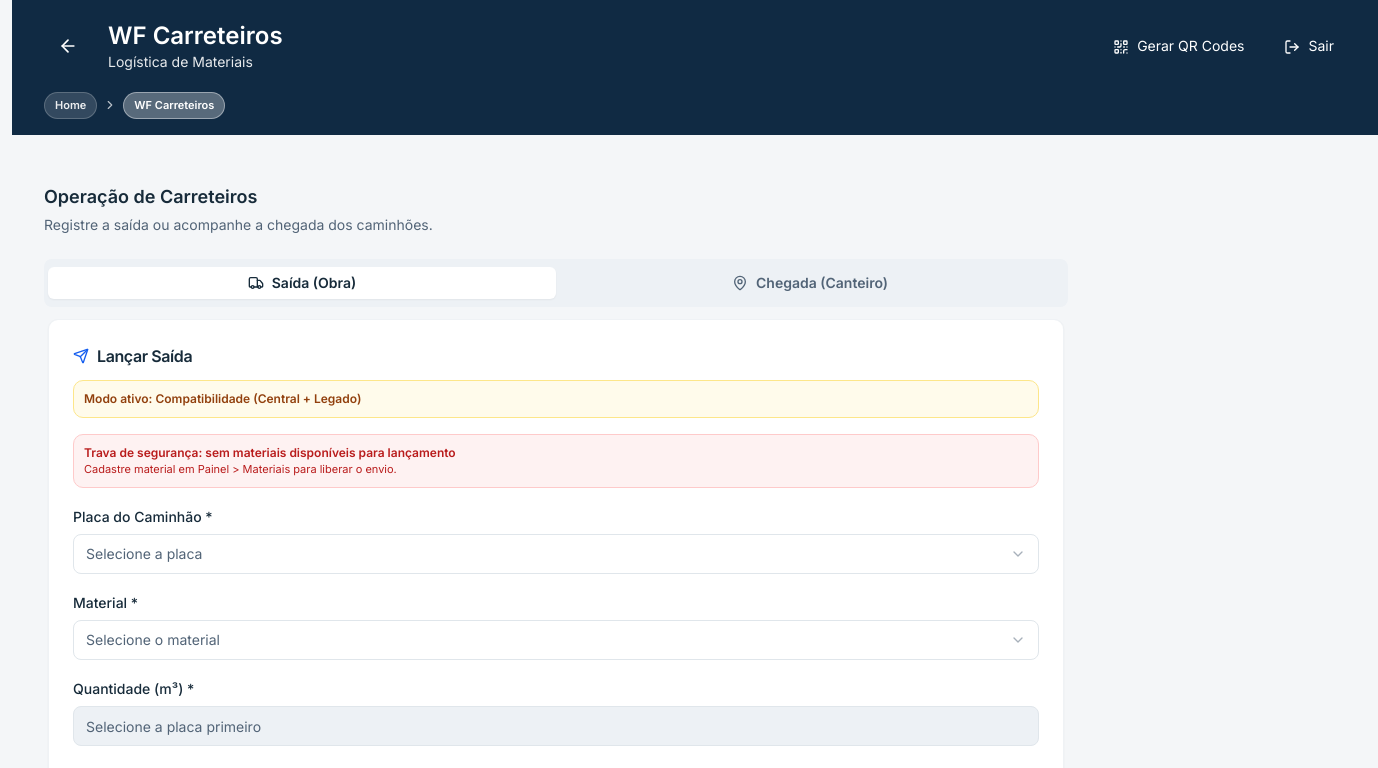
Test case: WF Carreteiros desktop › mantém a origem no atalho para os QR Codes
Click the button "Gerar QR Codes" at [1179, 46], box [1101,28,1256,64]
(page scrolled)
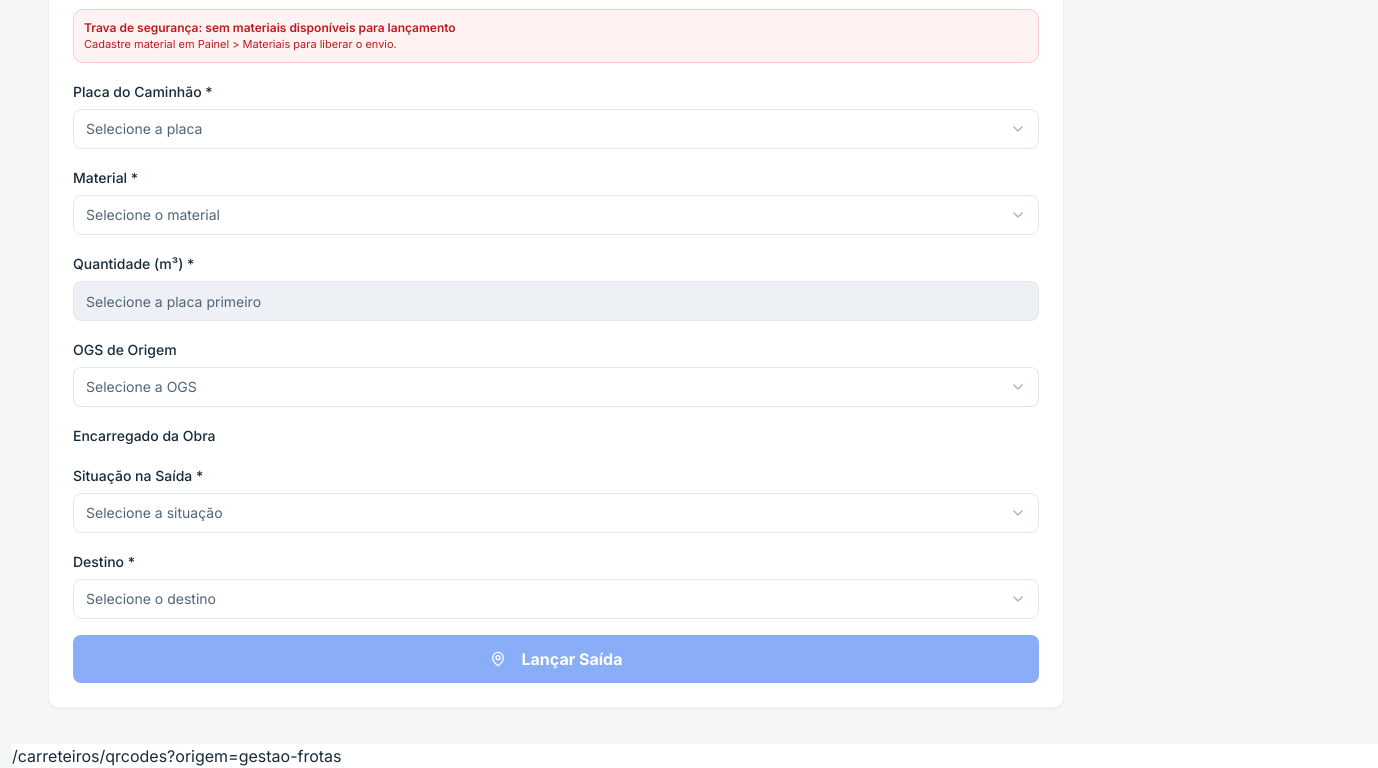
Now the text "rota" reads "/carreteiros/qrcodes?origem=gestao-frotas", box [12,746,342,766]
